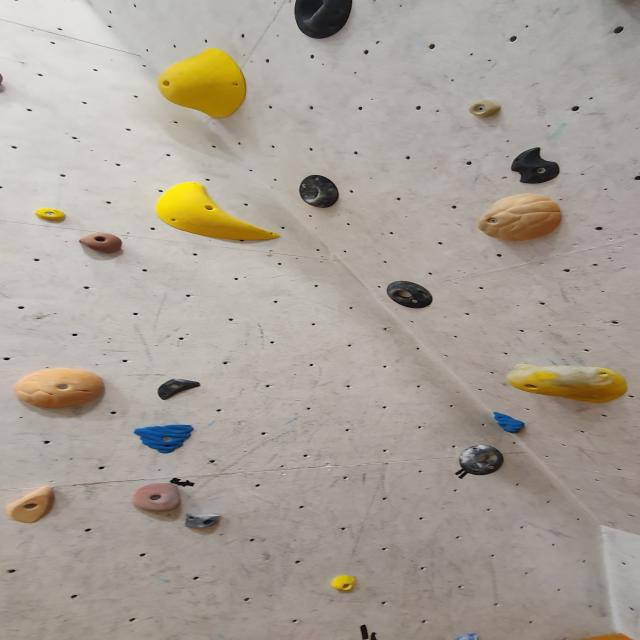Crimp: (132, 428, 196, 454), (156, 378, 203, 399), (492, 412, 528, 436), (450, 633, 480, 640)
Jug: (131, 484, 184, 514), (76, 232, 126, 256), (0, 74, 8, 98)
Pinch: (5, 488, 62, 526), (466, 100, 504, 122), (185, 513, 226, 532)
Pocket: (286, 0, 358, 40), (384, 278, 439, 311), (456, 444, 506, 476), (297, 175, 342, 209)
Sloper: (156, 183, 284, 243), (157, 47, 251, 122), (505, 362, 633, 402), (474, 195, 564, 246), (14, 369, 112, 411), (507, 146, 563, 184), (330, 573, 360, 592), (35, 206, 69, 222)
